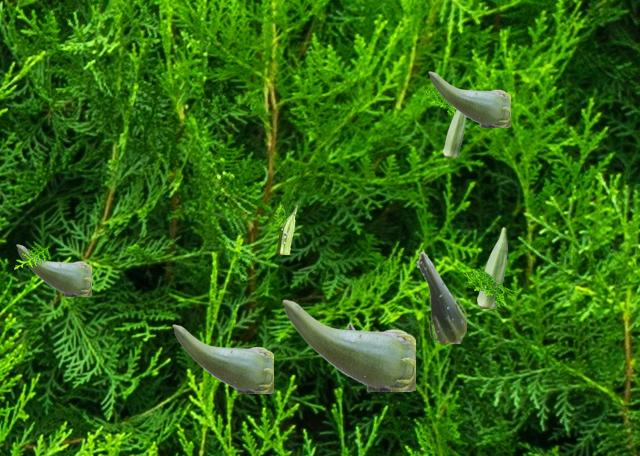okra: (282, 299, 414, 390), (172, 324, 272, 392), (416, 249, 465, 342), (428, 71, 509, 126), (16, 244, 90, 295), (477, 227, 506, 307), (443, 110, 465, 156), (277, 205, 296, 253), (347, 322, 355, 329)
